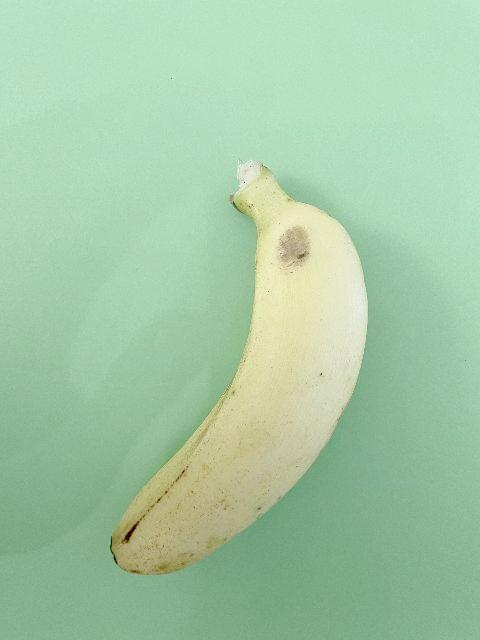banana: (109, 160, 370, 578)
